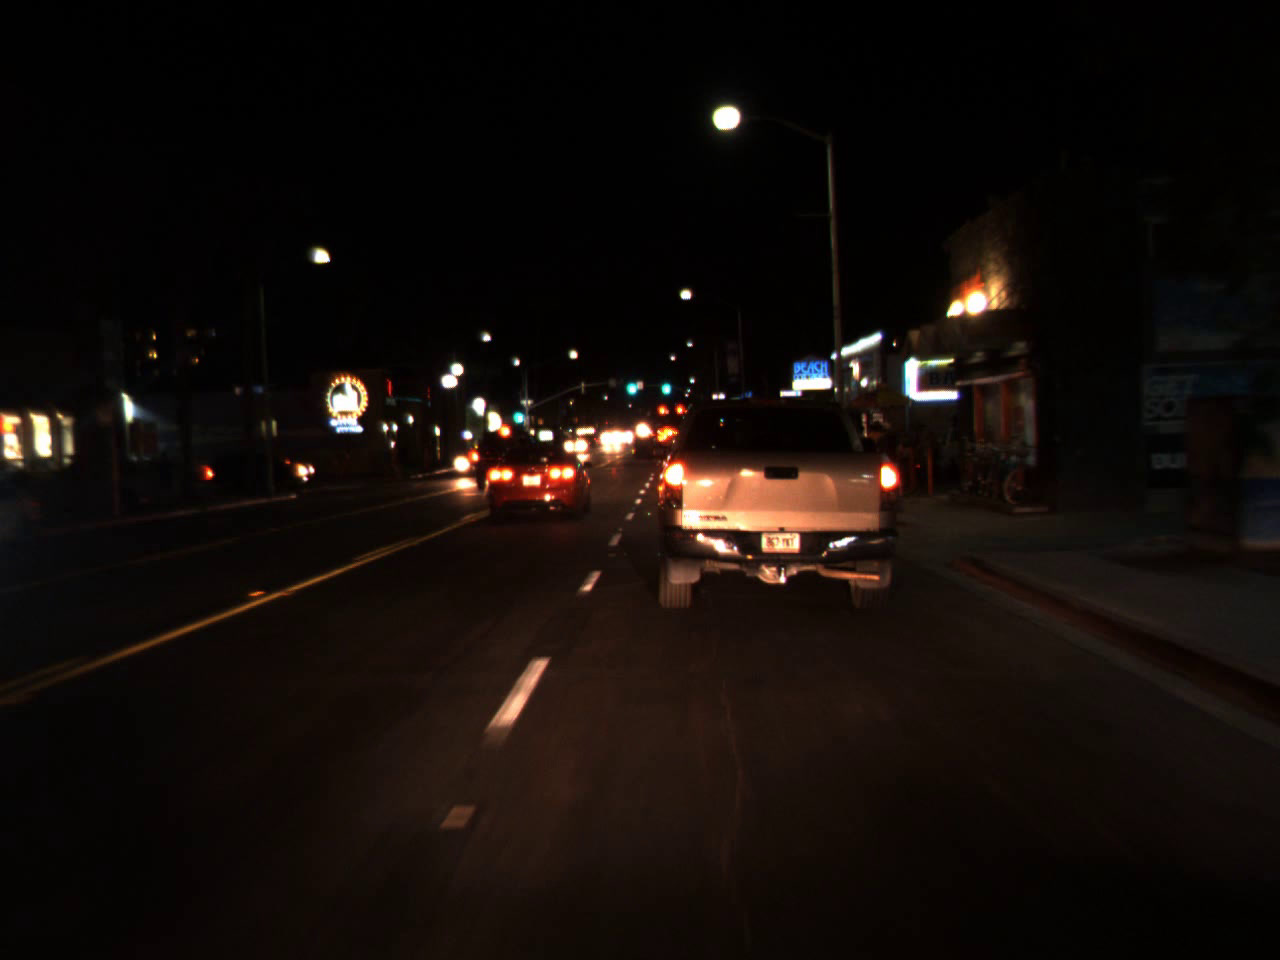go: (623, 369, 641, 399), (509, 398, 525, 428), (658, 369, 672, 399)
